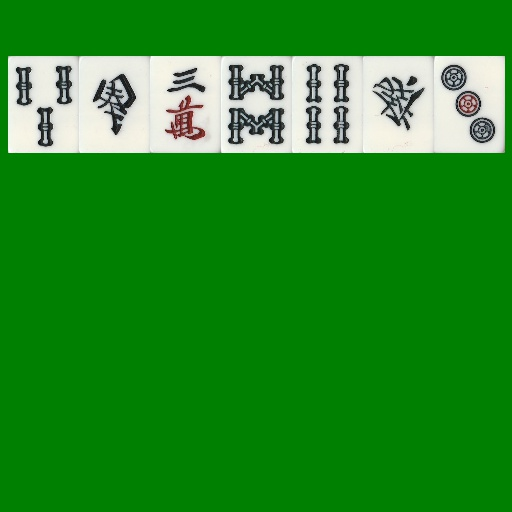3m: (150, 56, 221, 153)
3p: (434, 56, 505, 153)
3s: (8, 56, 79, 153)
4s: (292, 56, 363, 153)
8s: (221, 56, 292, 153)
hatsu: (363, 56, 434, 153)
south: (79, 56, 150, 153)
